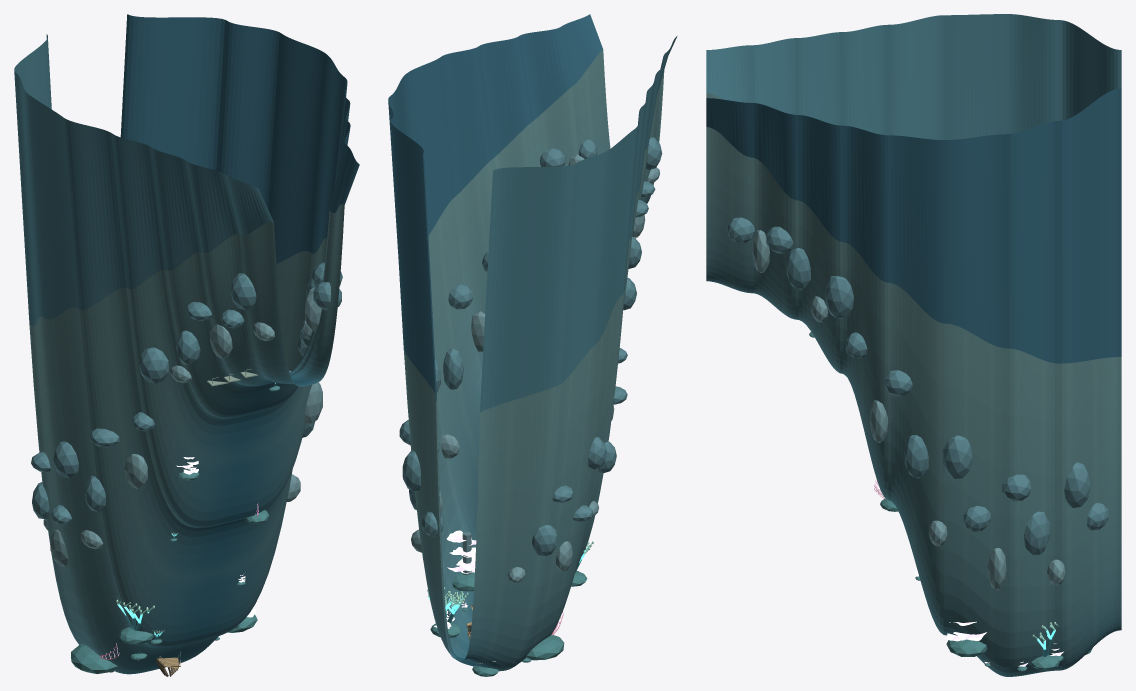
File: trench.glb
3 views of the same model, side by side, from view 1: azimuth 30°, elevation 25°; view 2: azimuth 150°, elevation 25°; view 3: azimuth 270°, elevation 25° (orthographic). The views are drawn at different scales.
Visible parts, largest first — view 1: trench; view 2: trench; view 3: trench.
Boxes of the visible parts, left/top/right/bottom form: trench: left=14, top=14, right=359, bottom=676; trench: left=388, top=14, right=677, bottom=676; trench: left=706, top=14, right=1121, bottom=676.
Bounding box in the file's own units: 105 × 229 × 146.
